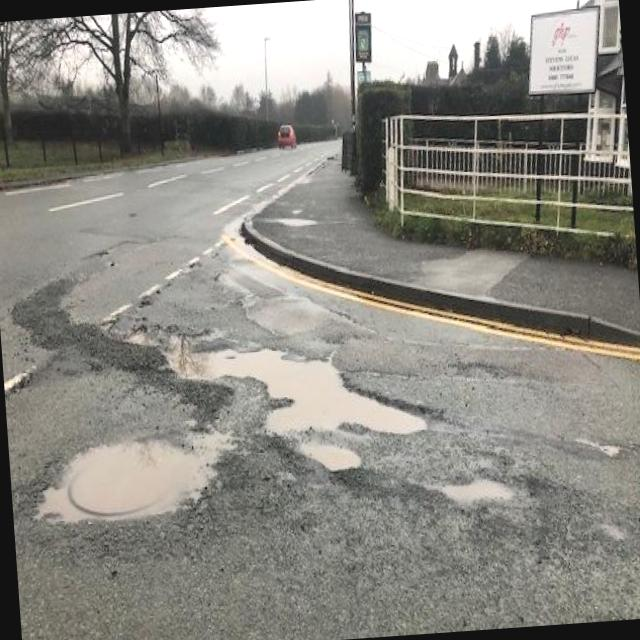bad-road: (123, 299, 431, 490), (22, 432, 224, 534), (429, 468, 516, 514)
